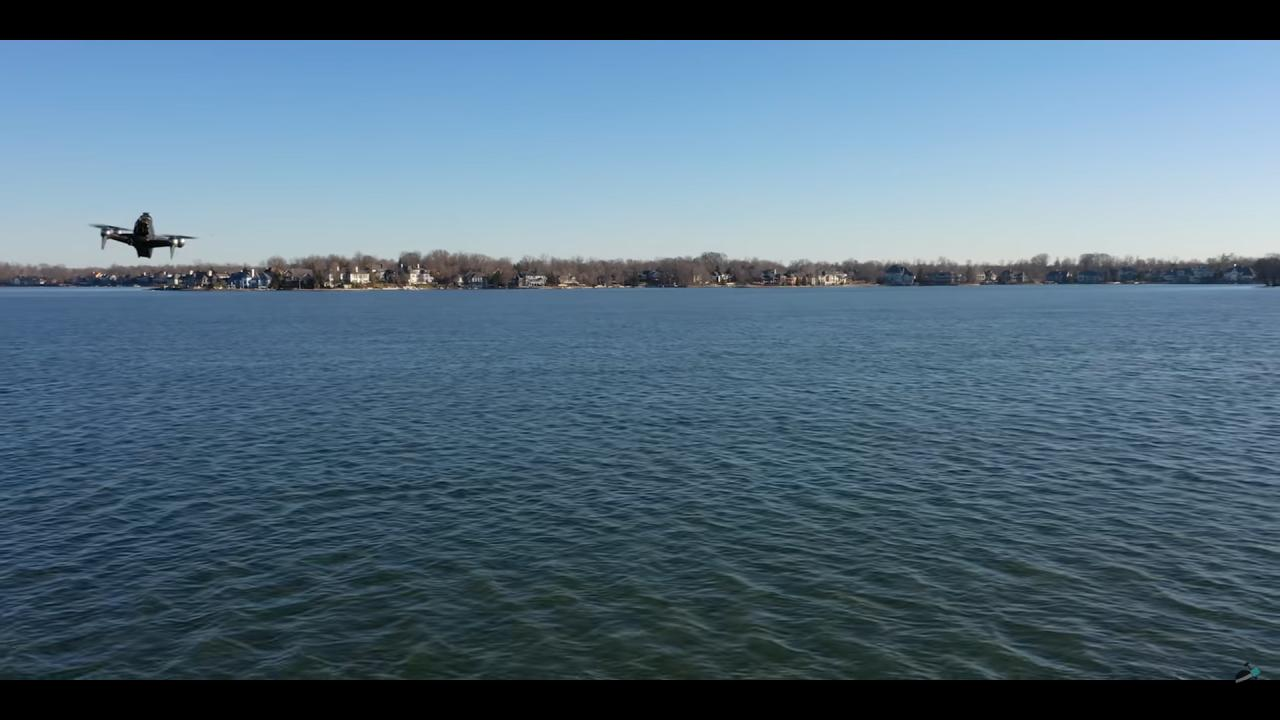Drone: (79, 206, 203, 271)
